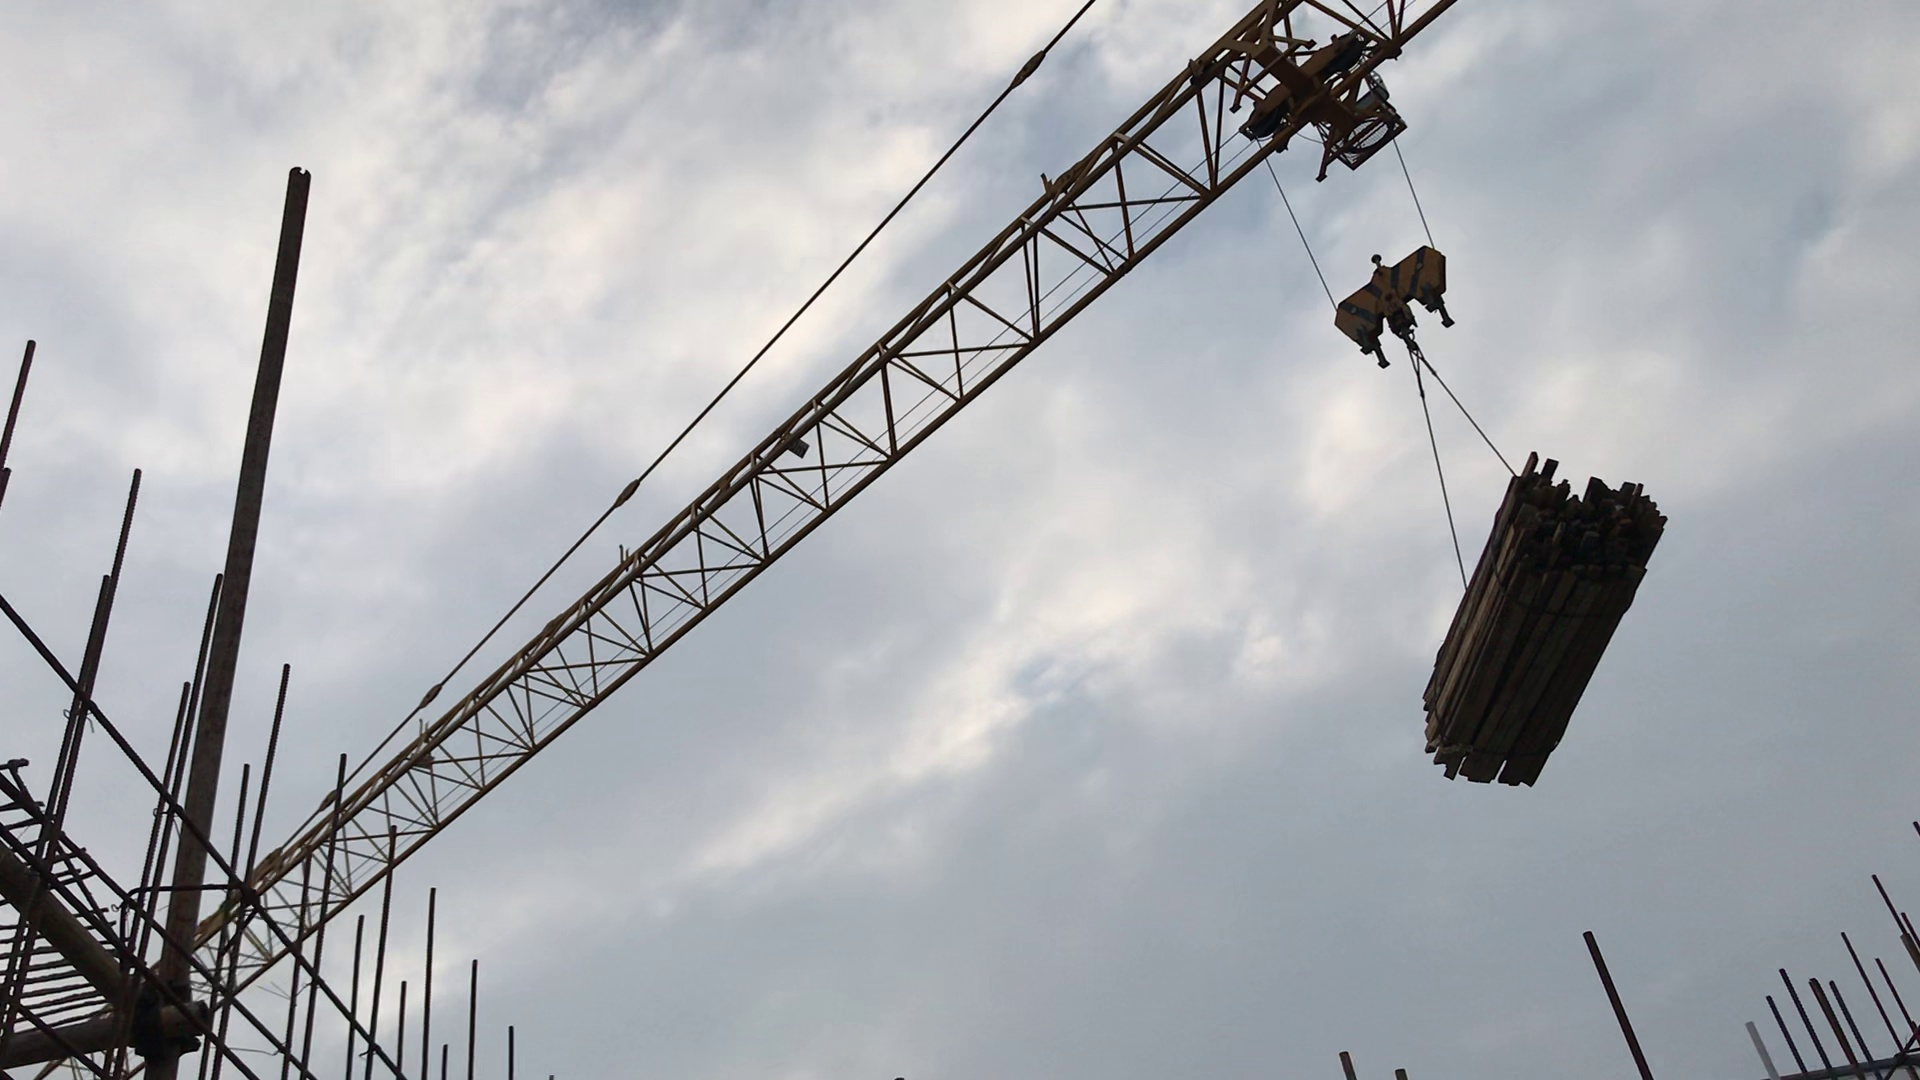hook: (1331, 224, 1472, 371)
wood: (1416, 448, 1671, 802)
